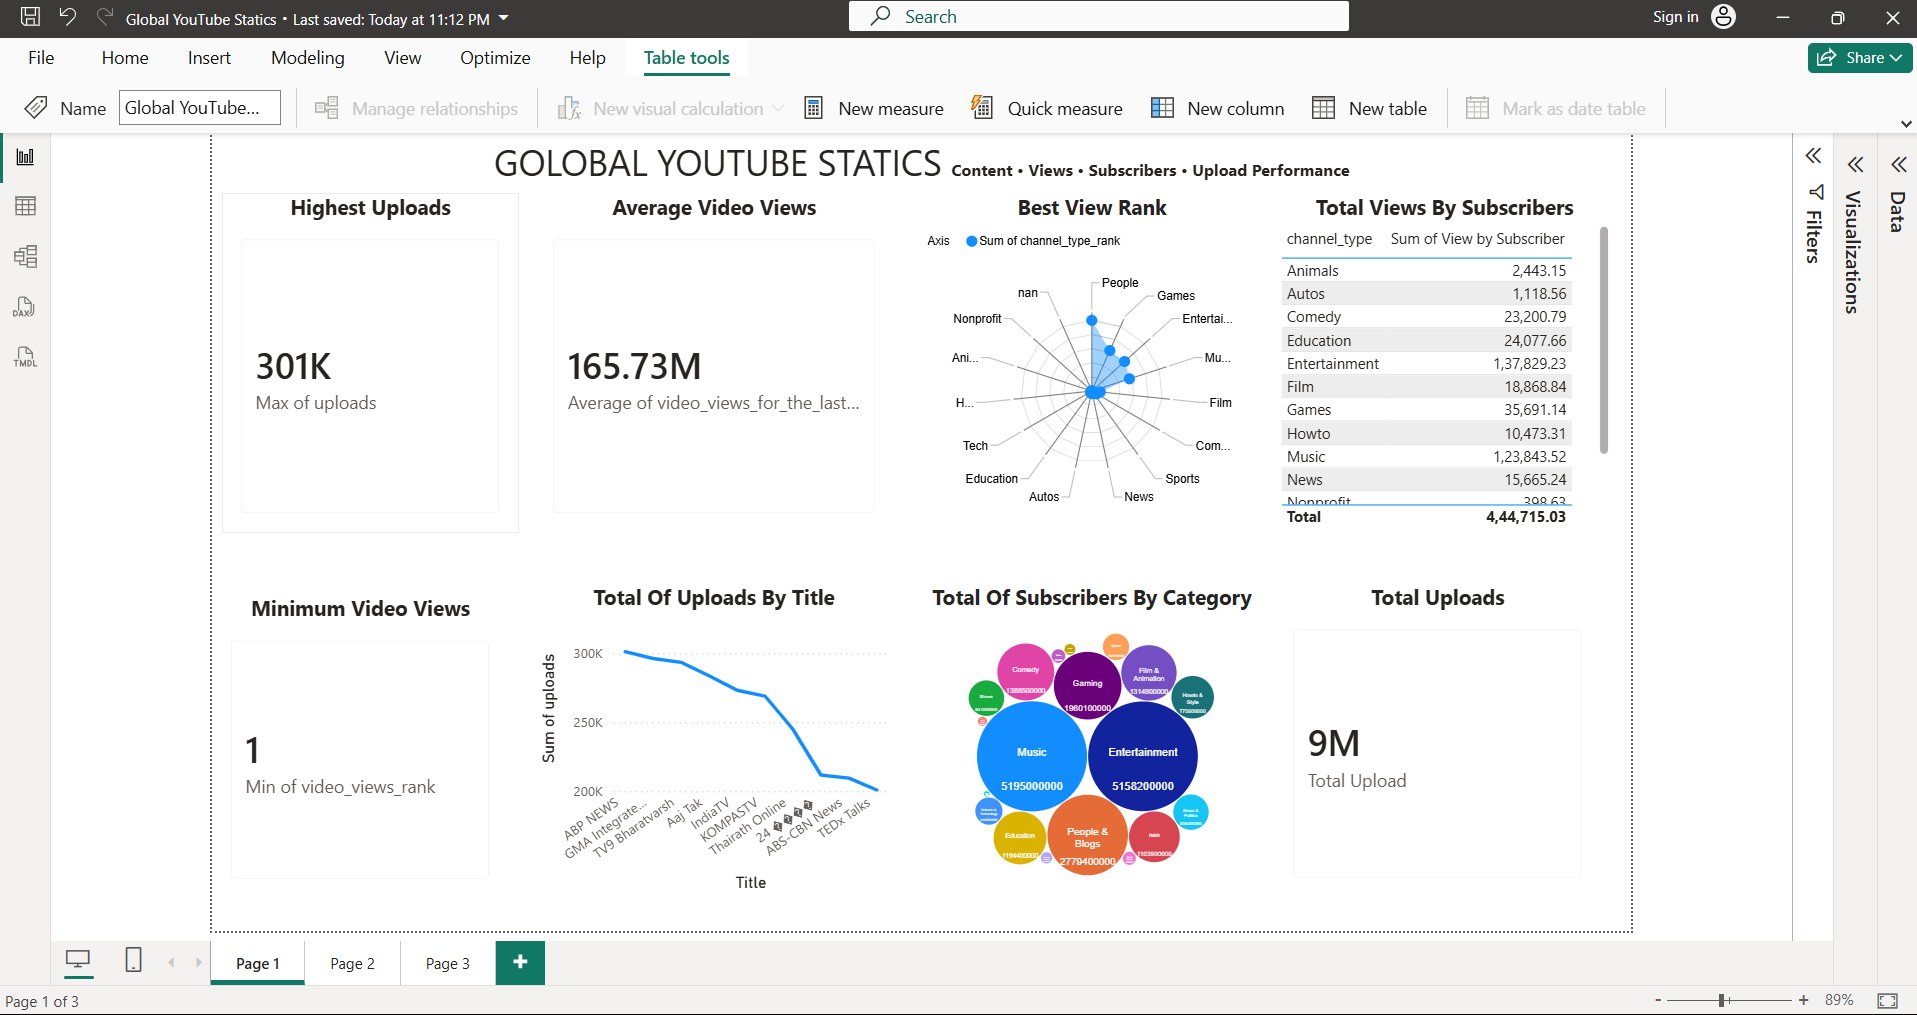

What the dashboard file says about the page in this screenshot:
{"tool":"powerbi","page":{"name":"Page 1","canvas":[1280,720],"ordinal":0},"visuals":[{"type":"cardVisual","title":"Highest Uploads","fields":{"Data":["Max(Global YouTube Statistics.uploads)"]},"box":[9.4,53.8,267.6,306.6],"z":0},{"type":"cardVisual","title":"Minimum Video Views","fields":{"Data":["Min(Global YouTube Statistics.video_views_rank)"]},"box":[0,415.6,267.6,274.3],"z":1000},{"type":"cardVisual","title":"Average Video Views","fields":{"Data":["Avg(Global YouTube Statistics.video_views_for_the_last_30_days)"]},"box":[290.5,53.8,324.1,306.6],"z":2000},{"type":"lineChart","title":"Total Of Uploads By Title","fields":{"Category":["Global YouTube Statistics.Title"],"Y":["Sum(Global YouTube Statistics.uploads)"]},"box":[290.5,406.1,324.1,283.8],"z":3000},{"type":"RadarChart1446119667547","title":"Best View Rank","fields":{"Category":["Global YouTube Statistics.channel_type"],"Y":["Sum(Global YouTube Statistics.channel_type_rank)"]},"box":[640.1,53.8,306.6,306.6],"z":4000},{"type":"PackedBubbleChart","title":"Total Of Subscribers By Category","fields":{"category":["Global YouTube Statistics.category"],"measure":["Sum(Global YouTube Statistics.subscribers)"]},"box":[640.1,406.1,306.6,283.8],"z":5000},{"type":"tableEx","title":"Total Views By Subscribers","fields":{"Values":["Global YouTube Statistics.channel_type","Sum(Global YouTube Statistics.View by Subscriber)"]},"box":[957.5,53.8,306.6,306.6],"z":6000},{"type":"cardVisual","title":"Total Uploads","fields":{"Data":["Global YouTube Statistics.Total Upload"]},"box":[957.5,406.1,294.5,283.8],"z":7000},{"type":"textbox","box":[0,0,1280.3,53.8],"z":7001}]}

Visuals, with their boxes on the page's 1280x720 design canvas (x1, y1, x2, y2). These are canvas units, not pixel positions in the 1917x1015 screenshot, which may show the page scaled, cropped or inside an application window:
"Highest Uploads" cardVisual: l=9, t=54, r=277, b=360
"Minimum Video Views" cardVisual: l=0, t=416, r=268, b=690
"Average Video Views" cardVisual: l=290, t=54, r=615, b=360
"Total Of Uploads By Title" lineChart: l=290, t=406, r=615, b=690
"Best View Rank" RadarChart1446119667547: l=640, t=54, r=947, b=360
"Total Of Subscribers By Category" PackedBubbleChart: l=640, t=406, r=947, b=690
"Total Views By Subscribers" tableEx: l=958, t=54, r=1264, b=360
"Total Uploads" cardVisual: l=958, t=406, r=1252, b=690
textbox: l=0, t=0, r=1280, b=54
